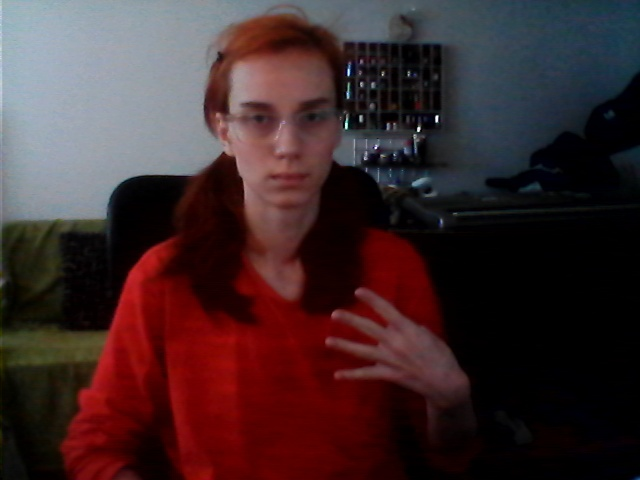styri: (312, 280, 472, 409)
